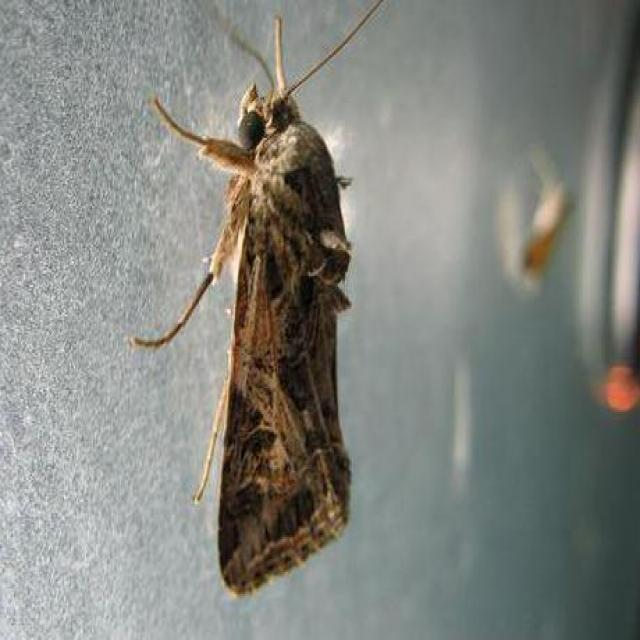armyworm: (198, 50, 374, 590)
